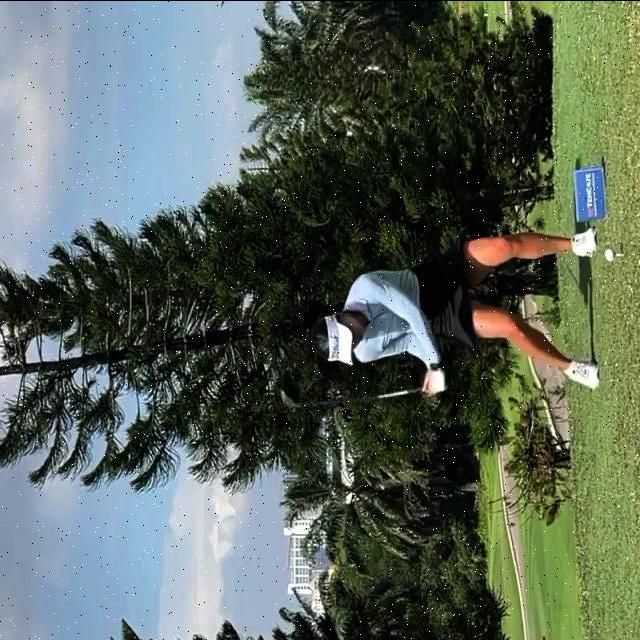golf ball: (603, 247, 616, 261)
golf club-handle: (276, 369, 452, 411)
golf club-head: (278, 377, 303, 409)
